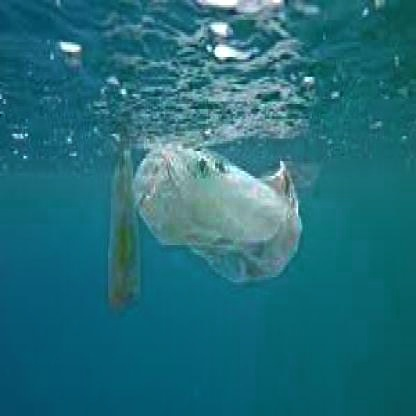pbag: (130, 136, 308, 300), (100, 131, 148, 317)
